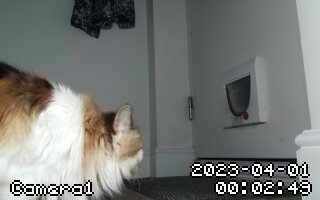clara: (2, 61, 147, 194)
